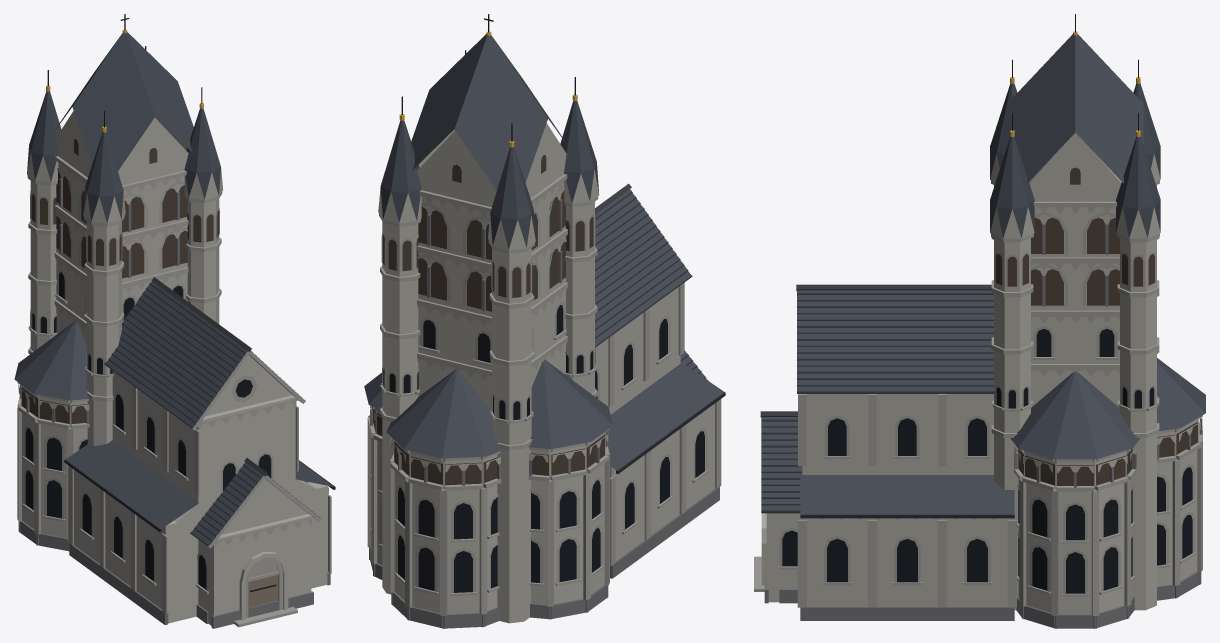
The model's file is koeln_gross_st_martin.glb.
The picture shows the model from 3 angles, left to right: view 1: azimuth 30°, elevation 25°; view 2: azimuth 150°, elevation 25°; view 3: azimuth 270°, elevation 25°; orthographic projection. The views are drawn at different scales.
Visible parts, largest first — view 1: Kirche; view 2: Kirche; view 3: Kirche.
Boxes of the visible parts, x1,y1,x2,y2 form: Kirche: (14, 14, 335, 628); Kirche: (364, 14, 725, 628); Kirche: (754, 14, 1205, 628).
Bounding box in the file's own units: 12.43 × 29.5 × 21.51.
